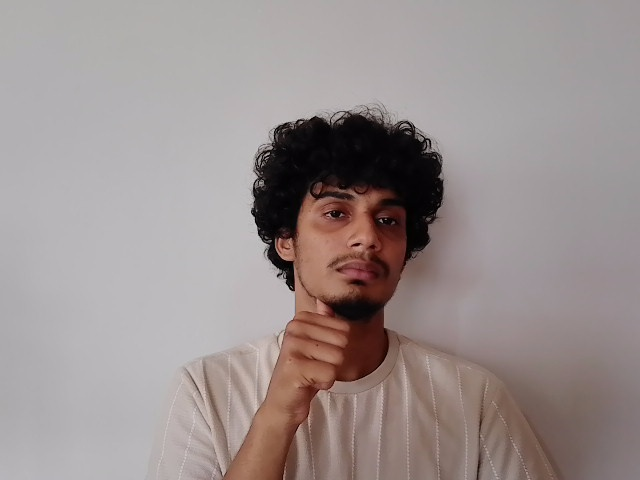not: (272, 281, 409, 394)
